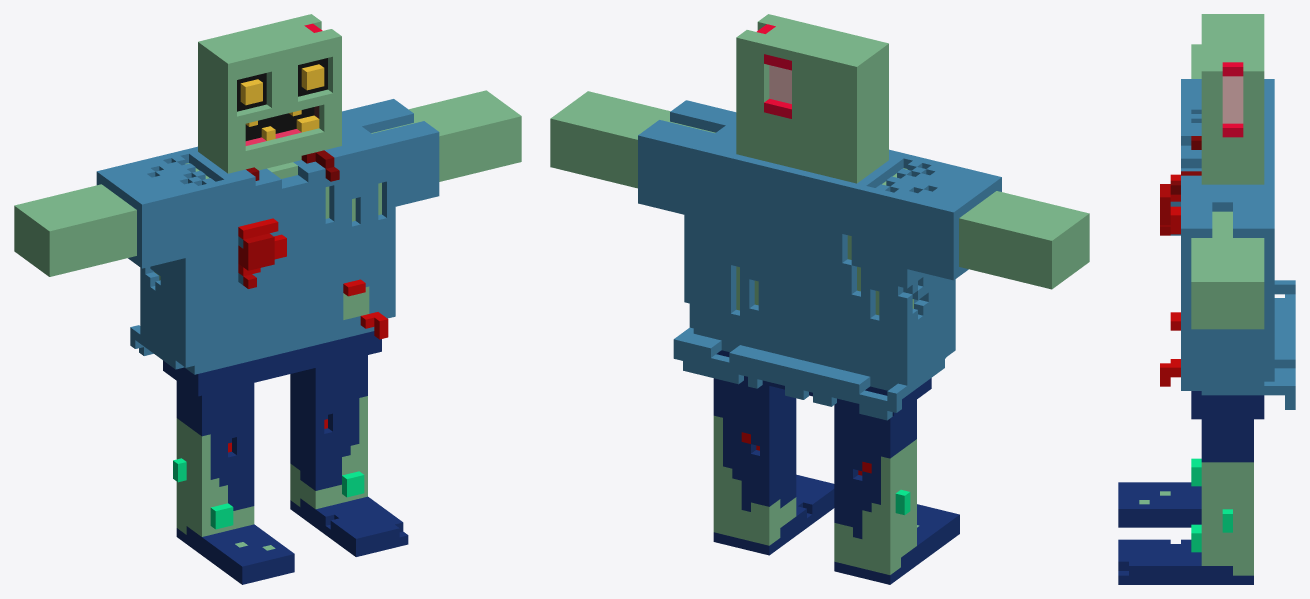
The model's file is Zombies.obj.
3 renders of one model, left to right at view 1: azimuth 30°, elevation 25°; view 2: azimuth 150°, elevation 25°; view 3: azimuth 270°, elevation 25°, orthographic. The views are drawn at different scales.
Bounding box in the file's own units: 5.4 × 5.3 × 1.7.
1 material, 1 textured.
